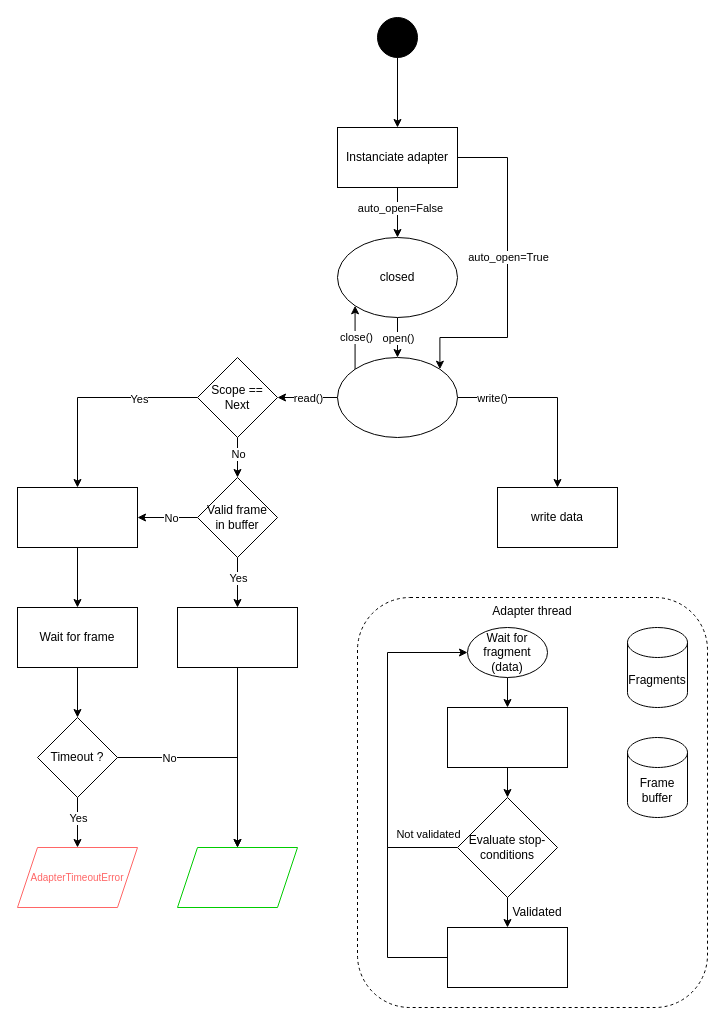
This 725x1025 diagram has some shape labels left out. Each missing label, with the centre of its shape:
Add to fragments: pixel 507 737
Add to frame buffer: pixel 507 957
Configure pending read: pixel 77 517
frame: pixel 237 877
opened: pixel 397 397
Read frame buffer: pixel 237 637
